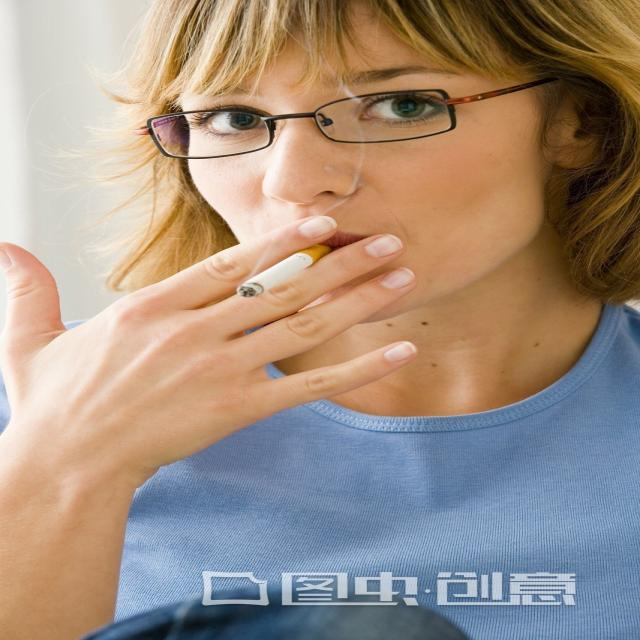smoke: (235, 242, 334, 300)
